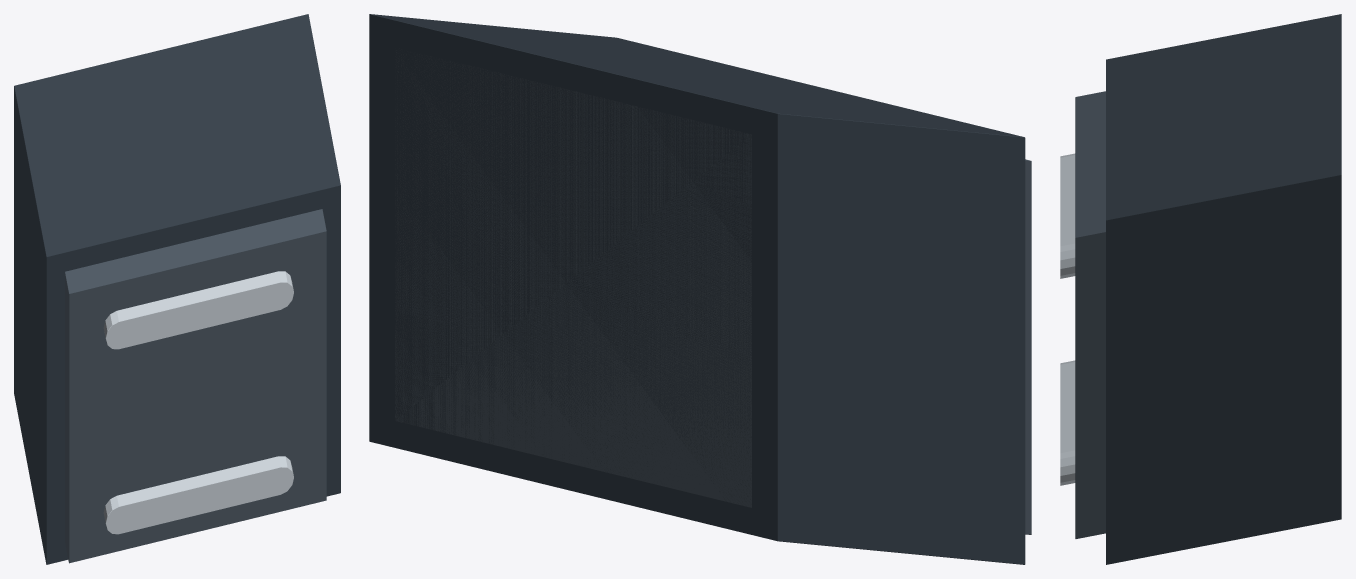
Rendered from LockWall_Tile.gltf.
3 views of the same model, side by side, from view 1: azimuth 30°, elevation 25°; view 2: azimuth 150°, elevation 25°; view 3: azimuth 270°, elevation 25° (orthographic). The views are drawn at different scales.
Visible parts, largest first — view 1: LockWall_Tile_baked; view 2: LockWall_Tile_baked; view 3: LockWall_Tile_baked.
Part boxes in pixels (bbox=[...]): LockWall_Tile_baked: bbox=[14, 14, 340, 564]; LockWall_Tile_baked: bbox=[369, 14, 1031, 564]; LockWall_Tile_baked: bbox=[1060, 14, 1341, 564].
Bounding box in the file's own units: 1.25 × 1.25 × 0.74.
